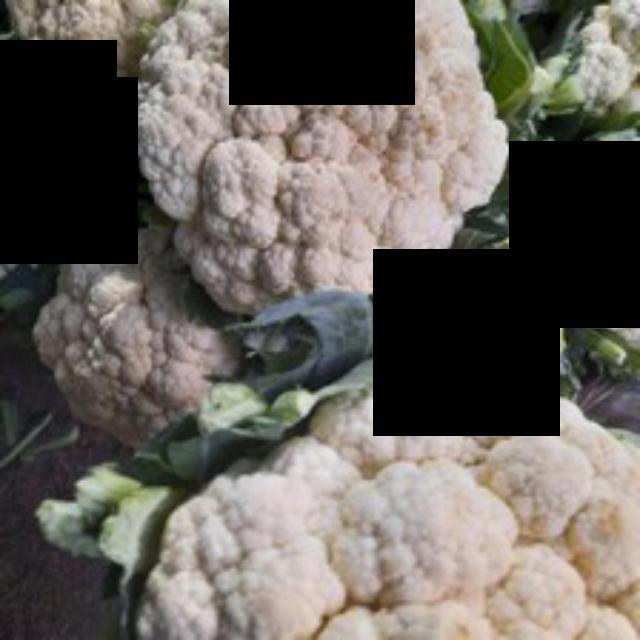cauliflower: (131, 348, 637, 637), (129, 0, 530, 301)
